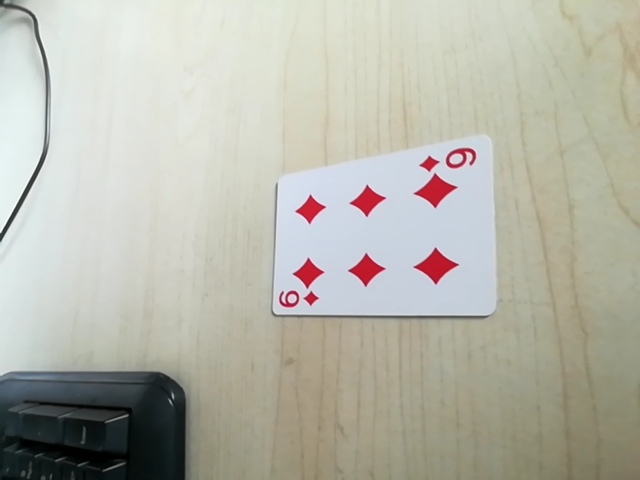fk 6: (419, 143, 483, 177), (275, 287, 322, 314)
